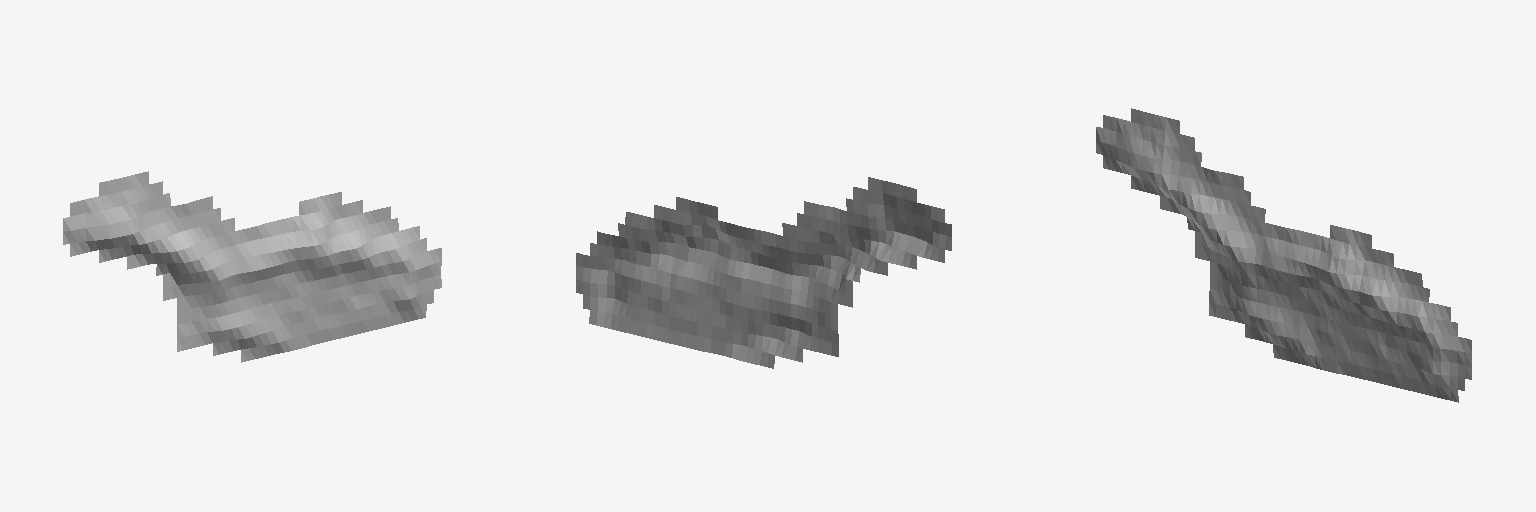
3 renders of one model, left to right at view 1: azimuth 30°, elevation 25°; view 2: azimuth 150°, elevation 25°; view 3: azimuth 330°, elevation 25°, orthographic.
Visible parts, largest first — view 1: EXPORT_GOOGLE_SAT_WM; view 2: EXPORT_GOOGLE_SAT_WM; view 3: EXPORT_GOOGLE_SAT_WM.
Part boxes in pixels (x1,y1,x2,y2): EXPORT_GOOGLE_SAT_WM: (63,171,441,362); EXPORT_GOOGLE_SAT_WM: (576,177,951,368); EXPORT_GOOGLE_SAT_WM: (1096,108,1471,402).
Size of the model in its own units: 2532 by 1376 by 100.